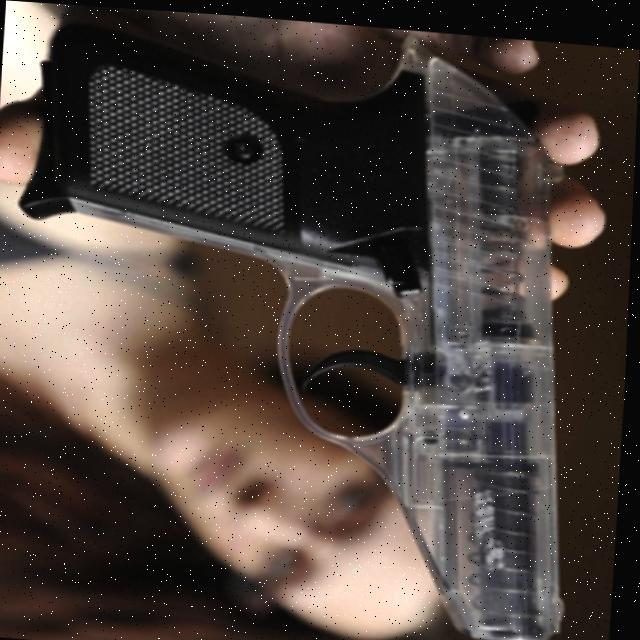pistol: (0, 1, 602, 640)
